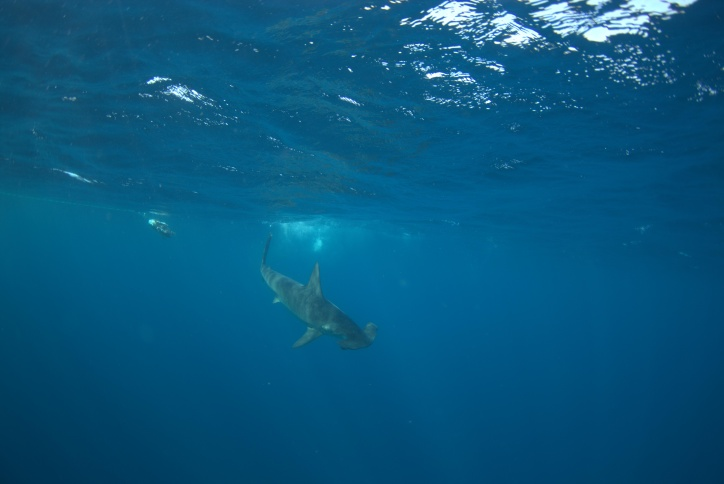Hammer: (211, 224, 420, 369)
